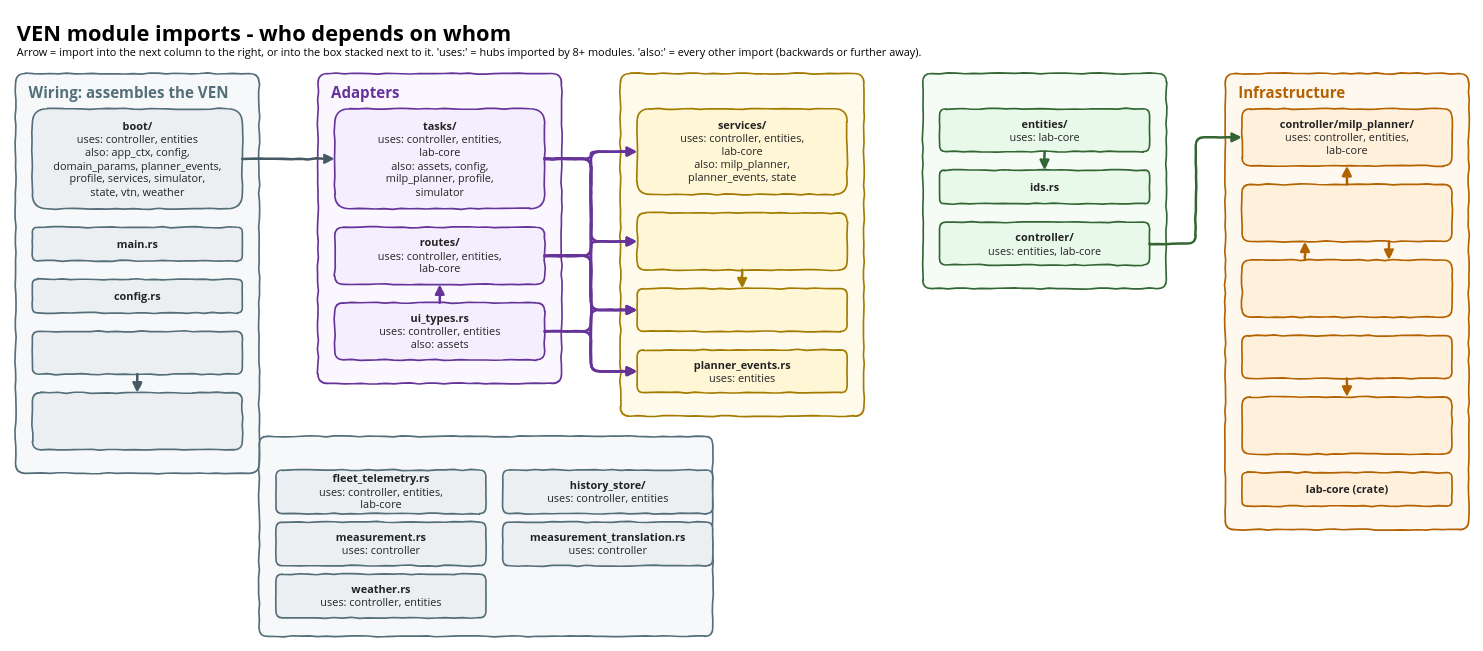
Some shapes in this 1483 by 651 pixel diagram are drawn without their labels. The box of each missing label's shape, as (x1, y1, x2, y2) in pixels:
app_ctx.rs uses: entities also: assets, planner_events: (636, 212, 848, 270)
Application + shared state: (619, 72, 864, 417)
assets/ uses: entities also: milp_planner: (1241, 259, 1452, 318)
Domain: (921, 72, 1167, 289)
domain_params.rs uses: entities: (31, 330, 243, 375)
profile/ uses: entities also: ids, services: (31, 391, 243, 450)
simulator/ uses: controller, entities, lab-core: (1241, 183, 1452, 242)
state/ uses: controller, entities: (636, 287, 848, 332)
Support adapters (import only hubs): (258, 435, 713, 637)
vtn.rs uses: controller, entities, lab-core: (1241, 396, 1452, 454)
vtn_reports.rs uses: controller: (1241, 334, 1452, 379)
